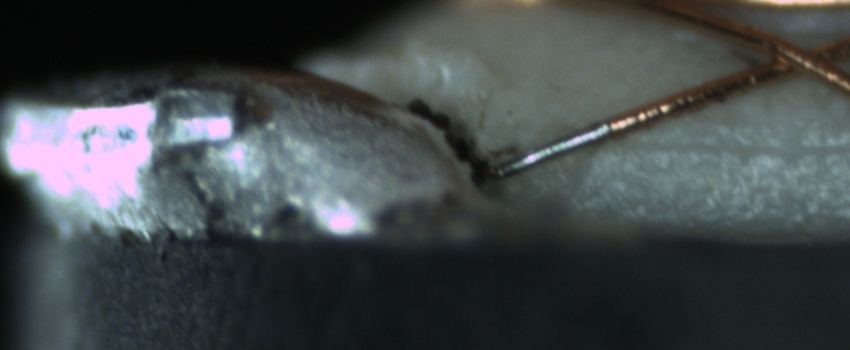CL: (745, 28, 844, 89)
DL: (597, 113, 848, 177)
TS: (480, 119, 610, 184)
